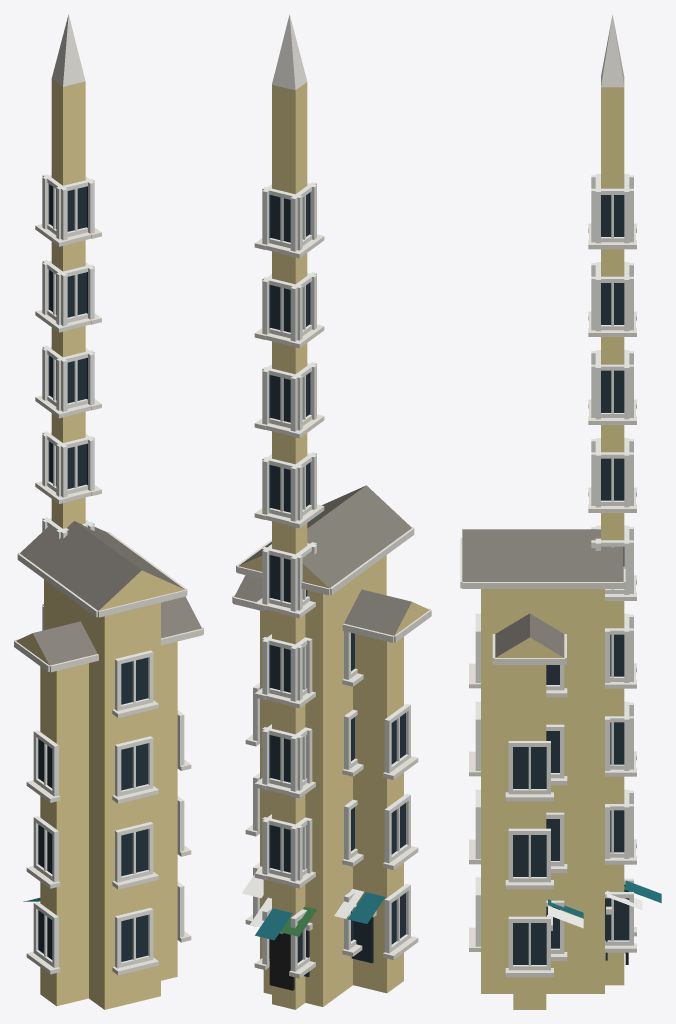
3 views of the same model, side by side, from view 1: azimuth 30°, elevation 25°; view 2: azimuth 150°, elevation 25°; view 3: azimuth 270°, elevation 25° (orthographic). The views are drawn at different scales.
Parts seen in each view (by area): view 1: b11716; view 2: b11716; view 3: b11716.
Part boxes in pixels (bbox=[...]): b11716: bbox=[14, 14, 203, 1009]; b11716: bbox=[232, 14, 431, 1009]; b11716: bbox=[460, 15, 661, 1009].
Bounding box in the file's own units: 2469 × 14280 × 2694.
